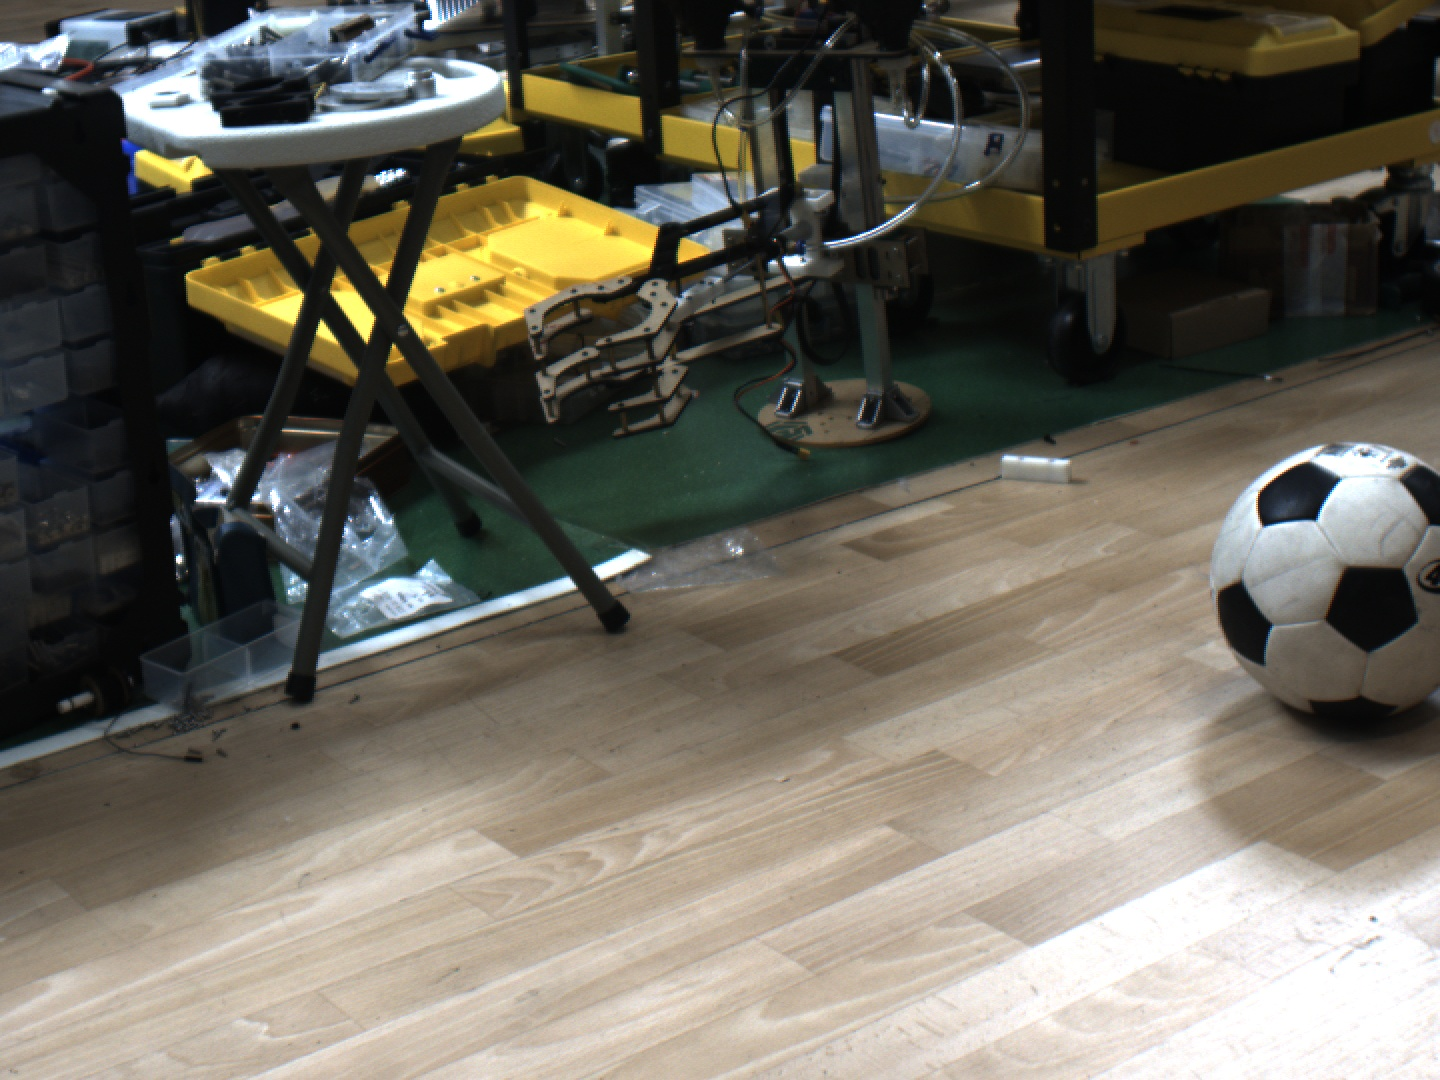ball: (1186, 417, 1440, 744)
